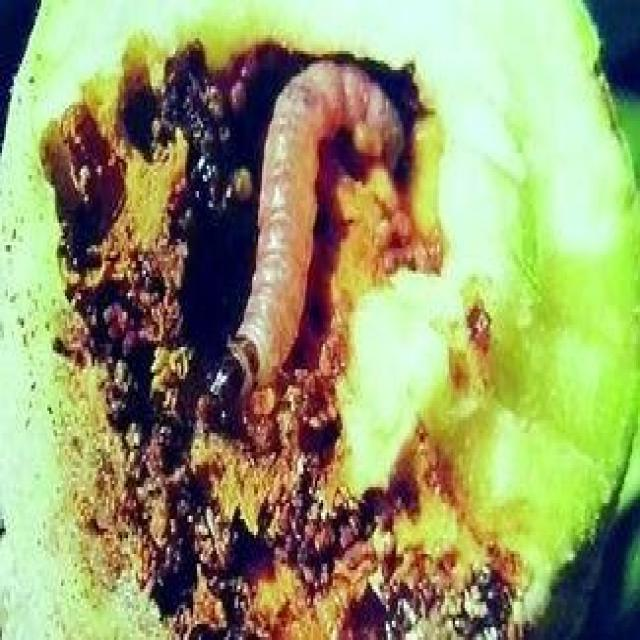peach borer: (207, 55, 406, 412)
